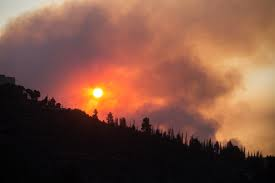fire: (66, 71, 128, 124)
